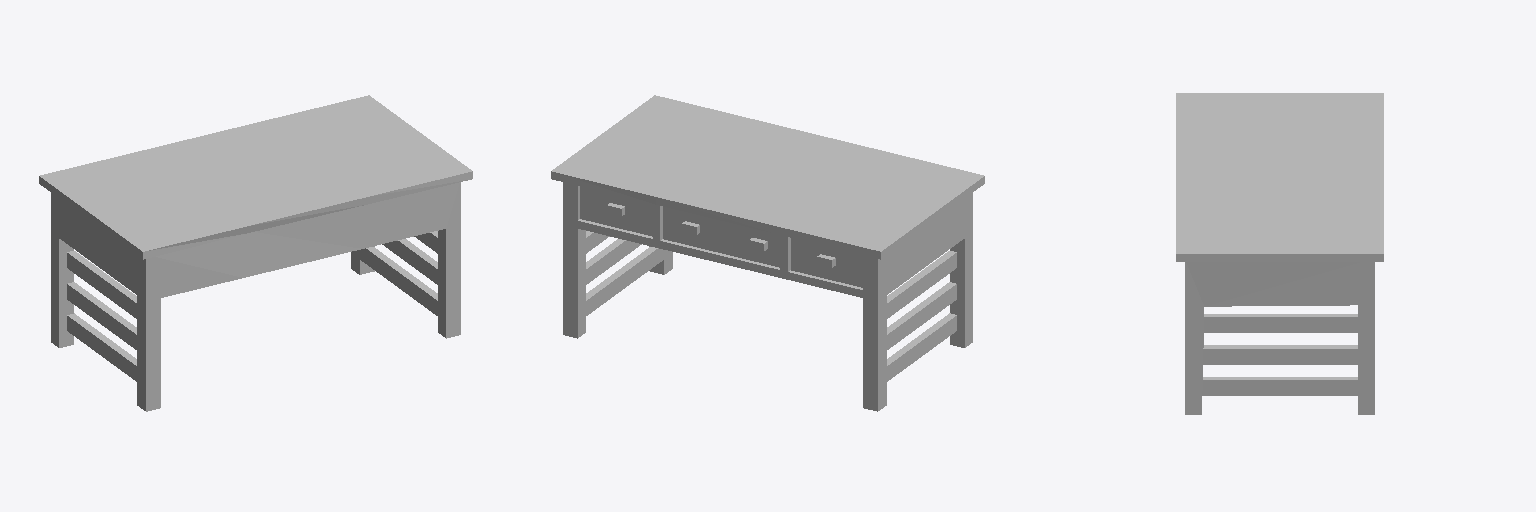
File: Desk - Optimized - Drawers Work.obj
The picture shows the model from 3 angles: view 1: azimuth 30°, elevation 25°; view 2: azimuth 150°, elevation 25°; view 3: azimuth 270°, elevation 25°; orthographic projection.
Parts seen in each view (by area): view 1: Desk; view 2: Desk, Middle_Drawer, Left_Drawer, Right_Drawer; view 3: Desk.
Boxes of the visible parts, x1=… form: Desk: x1=39, y1=95, x2=472, y2=411; Desk: x1=551, y1=95, x2=984, y2=411; Middle_Drawer: x1=663, y1=207, x2=779, y2=267; Left_Drawer: x1=580, y1=186, x2=652, y2=236; Right_Drawer: x1=791, y1=238, x2=862, y2=287; Desk: x1=1176, y1=93, x2=1383, y2=414.
Size of the model in its own units: 128 by 61.25 by 70.03.